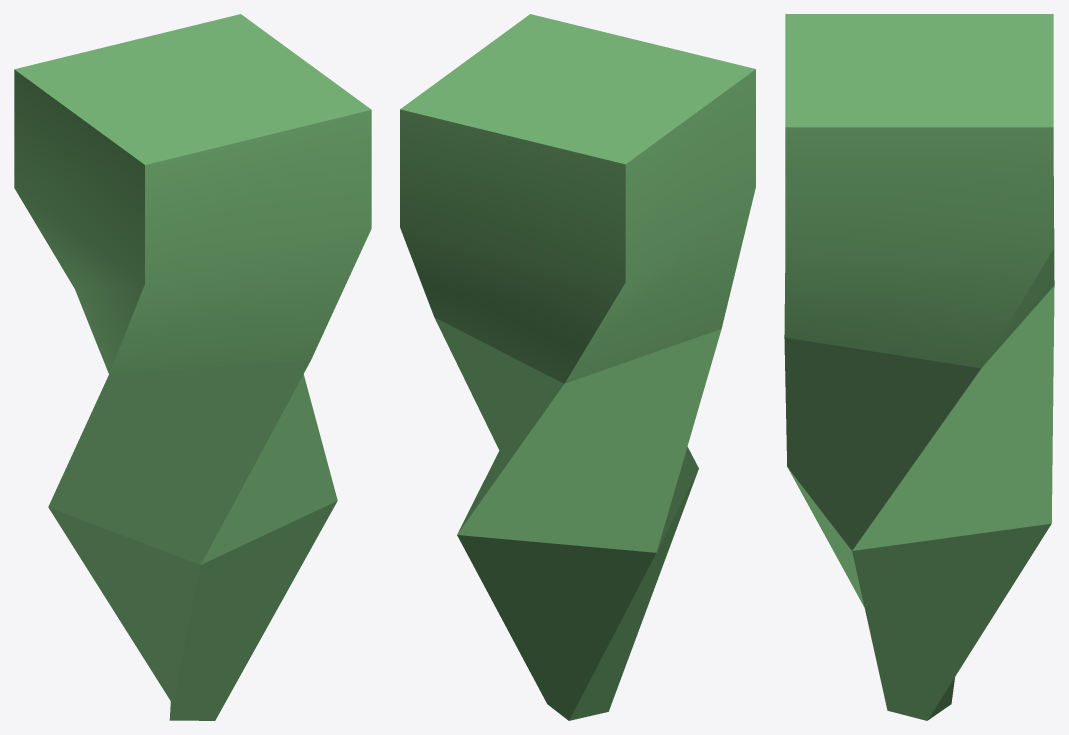
The model's file is SM_Stalagmite.fbx.
3 renders of one model, left to right at view 1: azimuth 30°, elevation 25°; view 2: azimuth 150°, elevation 25°; view 3: azimuth 270°, elevation 25°, orthographic. The views are drawn at different scales.
Parts seen in each view (by area): view 1: SM_Stalagmite; view 2: SM_Stalagmite; view 3: SM_Stalagmite.
Part boxes in pixels (left/top/right/bottom): SM_Stalagmite: left=14, top=14, right=371, bottom=720; SM_Stalagmite: left=400, top=14, right=755, bottom=720; SM_Stalagmite: left=784, top=14, right=1054, bottom=720.
Bounding box in the file's own units: 101 × 262 × 101.
